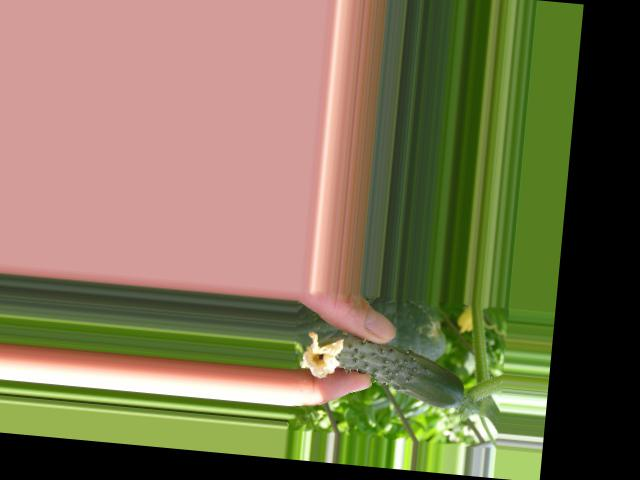cucumber: (299, 331, 469, 409)
